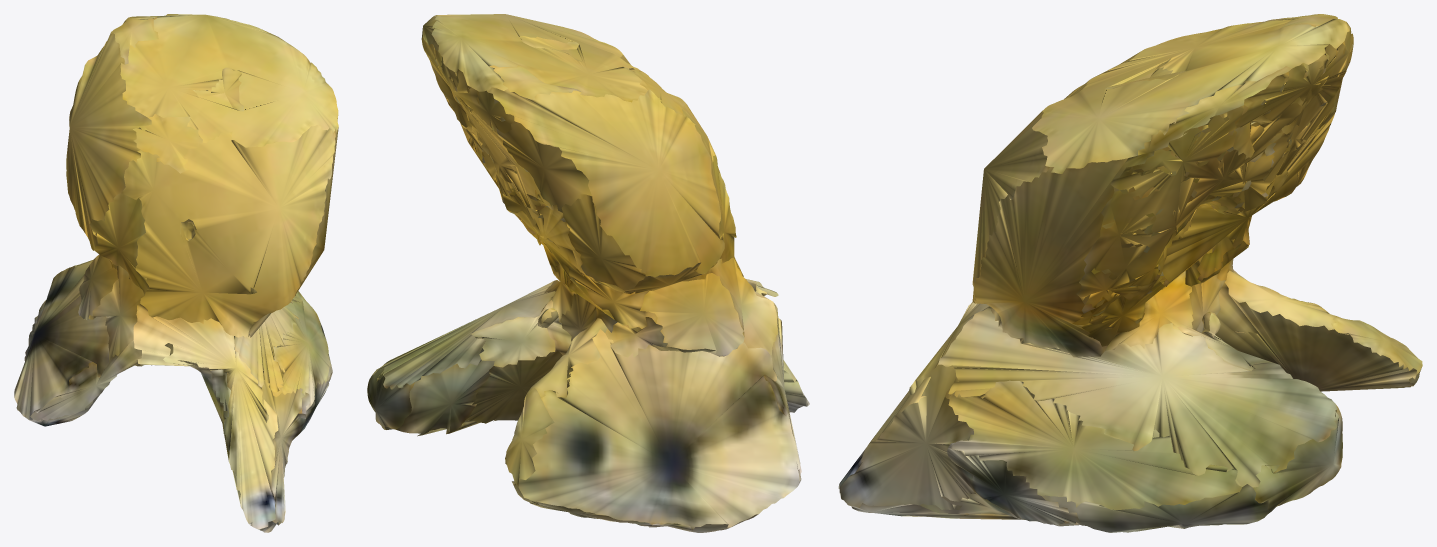
Rendered from 16_chair.glb.
3 renders of one model, left to right at view 1: azimuth 30°, elevation 25°; view 2: azimuth 150°, elevation 25°; view 3: azimuth 270°, elevation 25°, orthographic. The views are drawn at different scales.
Visible parts, largest first — view 1: 16_chair; view 2: 16_chair; view 3: 16_chair.
Part boxes in pixels (box(x1,y1,x2,y2)): 16_chair: box(14, 14, 338, 532); 16_chair: box(367, 14, 809, 532); 16_chair: box(838, 14, 1422, 532).
Bounding box in the file's own units: 0.6966 × 0.8484 × 0.8558.
1 material, 1 textured.
